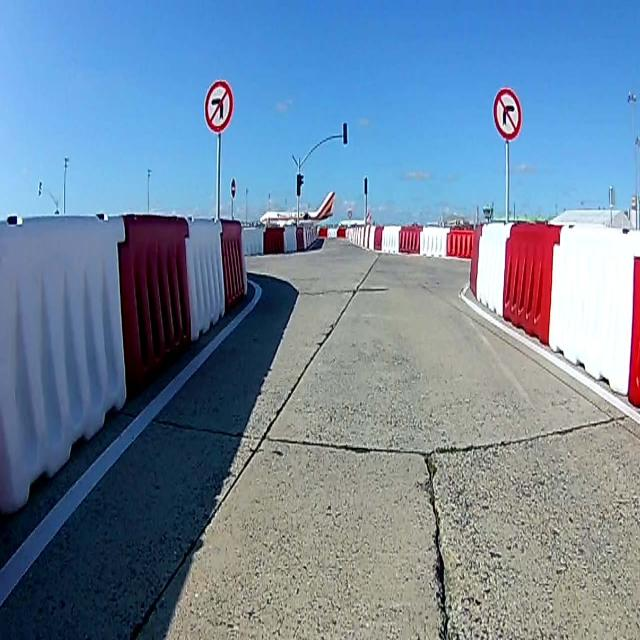sagadonulmez: (493, 89, 522, 138)
soladonulmez: (205, 79, 234, 131)
